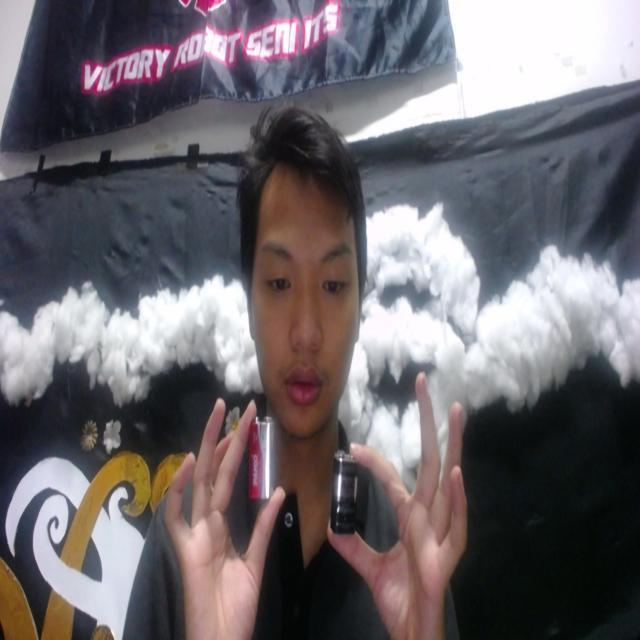Hazard: (246, 416, 277, 504), (330, 448, 360, 535)
